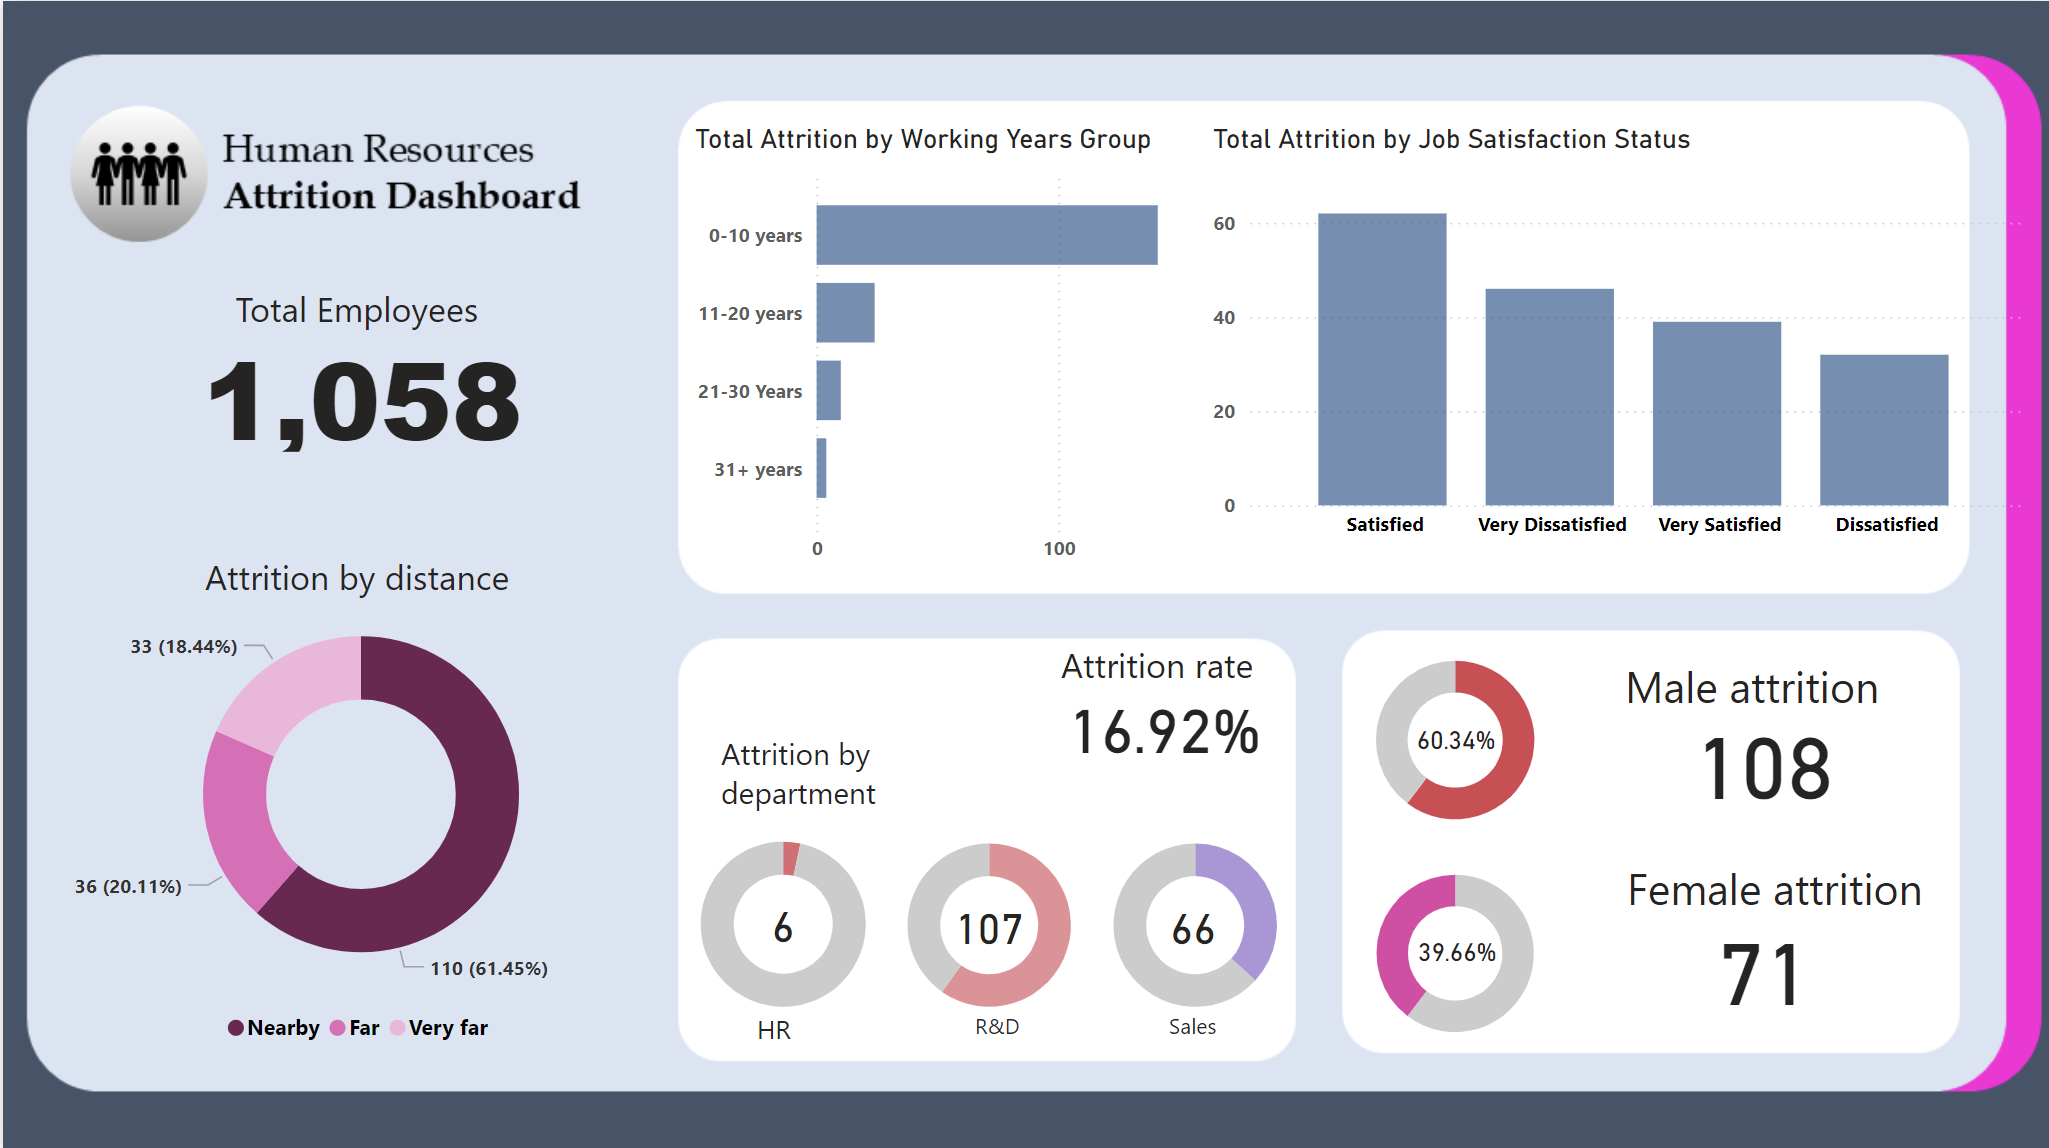

Layout of this report page (visuals, bound fields, positions):
{"tool":"powerbi","page":{"name":"Page 1","canvas":[1280,720],"ordinal":0},"visuals":[{"type":"card","fields":{"Values":["All Measures.Total Employees"]},"box":[108.4,204,232,82.9],"z":0},{"type":"donutChart","fields":{"Y":["All Measures.Total Attrition"],"Category":["cleaned (1).Distance Status"]},"box":[0,359.5,447.5,300.9],"z":1000},{"type":"barChart","fields":{"Y":["All Measures.Total Attrition"],"Category":["cleaned (1).Working Years Group"]},"box":[427.1,76.5,323.8,284.3],"z":2000},{"type":"columnChart","fields":{"Category":["cleaned (1).Job Satisfaction Status"],"Y":["All Measures.Total Attrition"]},"box":[750.9,76.5,515.1,269],"z":3000},{"type":"card","fields":{"Values":["All Measures.% Attrition"]},"box":[655.3,423.3,141.5,57.4],"z":4000},{"type":"donutChart","fields":{"Y":["All Measures.HR Department","All Measures.Remain Human Resources"]},"box":[416.9,508,140.2,139],"z":5000},{"type":"donutChart","fields":{"Y":["All Measures.Sales Department","All Measures.Remain Sales"]},"box":[674.4,509.3,140.2,137.7],"z":6000},{"type":"donutChart","fields":{"Y":["All Measures.Research & Development Department","All Measures.Remain Research & Development"]},"box":[545.7,509.3,140.2,137.7],"z":7000},{"type":"donutChart","fields":{"Y":["All Measures.Total Attrition"],"Category":["cleaned (1).Gender"]},"box":[838.9,529.1,137.7,133],"z":8000},{"type":"donutChart","fields":{"Y":["All Measures.Total Attrition"],"Category":["cleaned (1).Gender"]},"box":[838.9,395.2,137.7,133.9],"z":9000},{"type":"textbox","box":[110.9,172.1,225.7,47.2],"z":10000},{"type":"textbox","box":[121.2,340,228.8,55],"z":11000},{"type":"textbox","box":[656.2,395,140,40],"z":12000},{"type":"card","fields":{"Values":["All Measures.HR Department"]},"box":[459,552.7,57.4,49.7],"z":13000},{"type":"card","fields":{"Values":["All Measures.Sales Department"]},"box":[715.2,553.9,57.4,49.7],"z":14000},{"type":"card","fields":{"Values":["All Measures.Research & Development Department"]},"box":[587.7,553.9,57.4,49.7],"z":15000},{"type":"textbox","box":[443.8,452.5,128.8,62.5],"z":16000},{"type":"textbox","box":[466.6,626,42.1,68.8],"z":17000},{"type":"textbox","box":[603,626,42.1,68.8],"z":18000},{"type":"textbox","box":[724.1,626,42.1,68.8],"z":19000},{"type":"card","fields":{"Values":["All Measures.% Male Attrition"]},"box":[877.1,444.9,61.2,35.7],"z":20000},{"type":"card","fields":{"Values":["All Measures.% Female Attrition"]},"box":[874.6,578.8,67.6,33.1],"z":21000},{"type":"textbox","box":[1008.4,405.4,184.9,47.2],"z":22000},{"type":"textbox","box":[1010,531.2,210,47.5],"z":23000},{"type":"card","fields":{"Values":["All Measures.Total Attrition"]},"box":[1050.5,434.7,100.7,75.2],"z":24000},{"type":"card","fields":{"Values":["All Measures.Total Attrition"]},"box":[1050.5,563.5,100.7,75.2],"z":25000}]}

Visuals, with their boxes in screenshot pixels (x1, y1, x2, y2), scaled from the page's 1280x720 canvas onto the 2049x1148 screenshot:
card - All Measures.Total Employees: (left=174, top=325, right=545, bottom=457)
donutChart - All Measures.Total Attrition x cleaned (1).Distance Status: (left=0, top=573, right=716, bottom=1053)
barChart - All Measures.Total Attrition x cleaned (1).Working Years Group: (left=684, top=122, right=1202, bottom=575)
columnChart - cleaned (1).Job Satisfaction Status x All Measures.Total Attrition: (left=1202, top=122, right=2027, bottom=551)
card - All Measures.% Attrition: (left=1049, top=675, right=1276, bottom=766)
donutChart - All Measures.HR Department x All Measures.Remain Human Resources: (left=667, top=810, right=892, bottom=1032)
donutChart - All Measures.Sales Department x All Measures.Remain Sales: (left=1080, top=812, right=1304, bottom=1032)
donutChart - All Measures.Research & Development Department x All Measures.Remain Research & Development: (left=874, top=812, right=1098, bottom=1032)
donutChart - All Measures.Total Attrition x cleaned (1).Gender: (left=1343, top=844, right=1563, bottom=1056)
donutChart - All Measures.Total Attrition x cleaned (1).Gender: (left=1343, top=630, right=1563, bottom=844)
textbox: (left=178, top=274, right=539, bottom=350)
textbox: (left=194, top=542, right=560, bottom=630)
textbox: (left=1050, top=630, right=1275, bottom=694)
card - All Measures.HR Department: (left=735, top=881, right=827, bottom=960)
card - All Measures.Sales Department: (left=1145, top=883, right=1237, bottom=962)
card - All Measures.Research & Development Department: (left=941, top=883, right=1033, bottom=962)
textbox: (left=710, top=721, right=917, bottom=821)
textbox: (left=747, top=998, right=814, bottom=1108)
textbox: (left=965, top=998, right=1033, bottom=1108)
textbox: (left=1159, top=998, right=1227, bottom=1108)
card - All Measures.% Male Attrition: (left=1404, top=709, right=1502, bottom=766)
card - All Measures.% Female Attrition: (left=1400, top=923, right=1508, bottom=976)
textbox: (left=1614, top=646, right=1910, bottom=722)
textbox: (left=1617, top=847, right=1953, bottom=923)
card - All Measures.Total Attrition: (left=1682, top=693, right=1843, bottom=813)
card - All Measures.Total Attrition: (left=1682, top=898, right=1843, bottom=1018)
